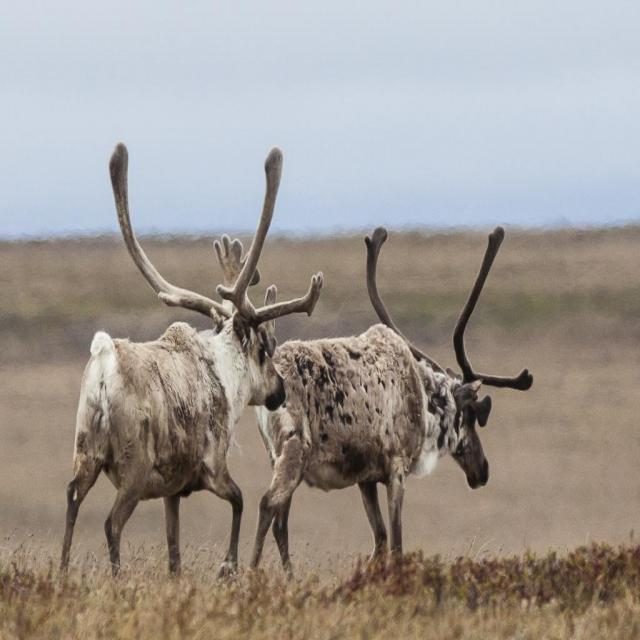Deer: (59, 141, 323, 582), (246, 225, 535, 585)
